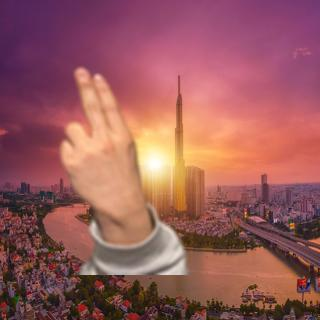DHAVE: (54, 62, 147, 220)
